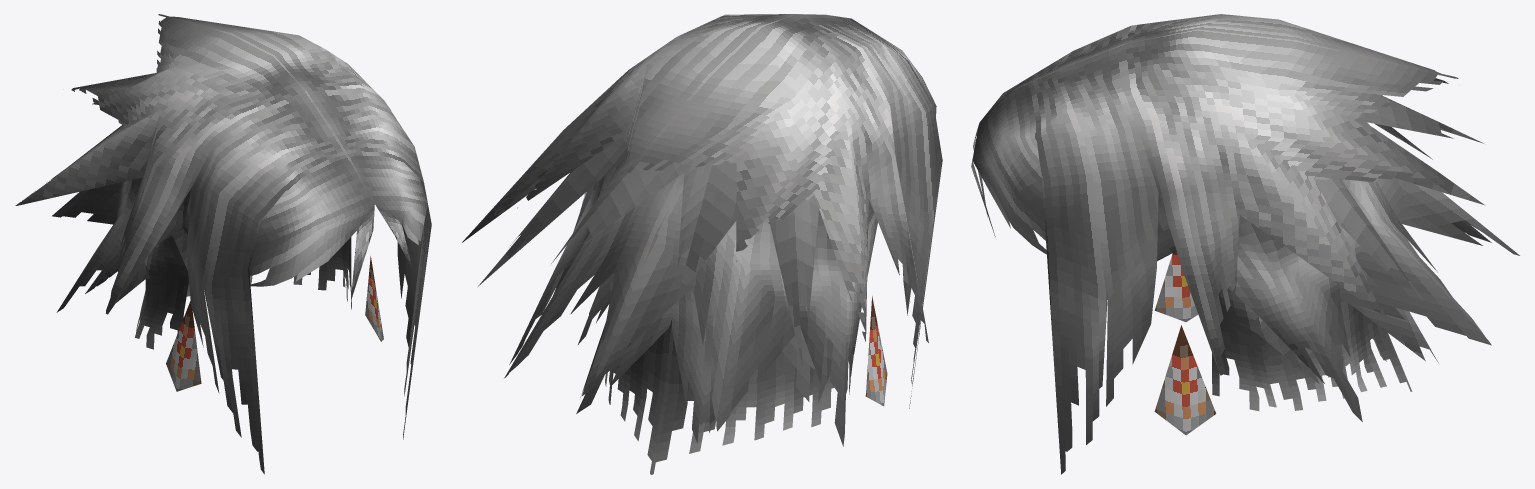
The model's file is m_head009.glb.
3 renders of one model, left to right at view 1: azimuth 30°, elevation 25°; view 2: azimuth 150°, elevation 25°; view 3: azimuth 270°, elevation 25°, orthographic. The views are drawn at different scales.
Bounding box in the file's own units: 26.84 × 26.19 × 32.06.
Materials: 1 (1 with a texture image).
